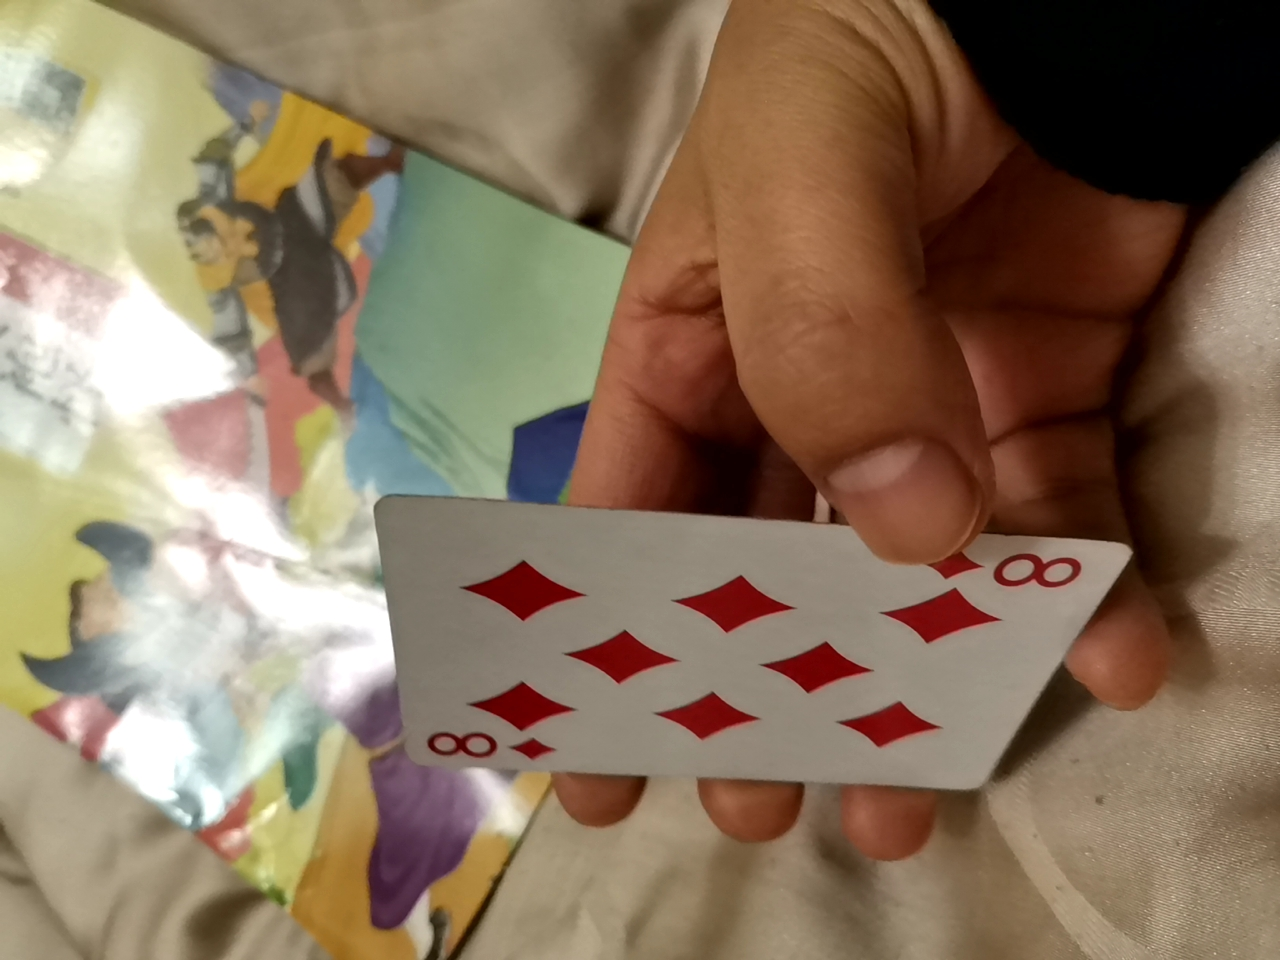fk 8: (398, 513, 1104, 806)
